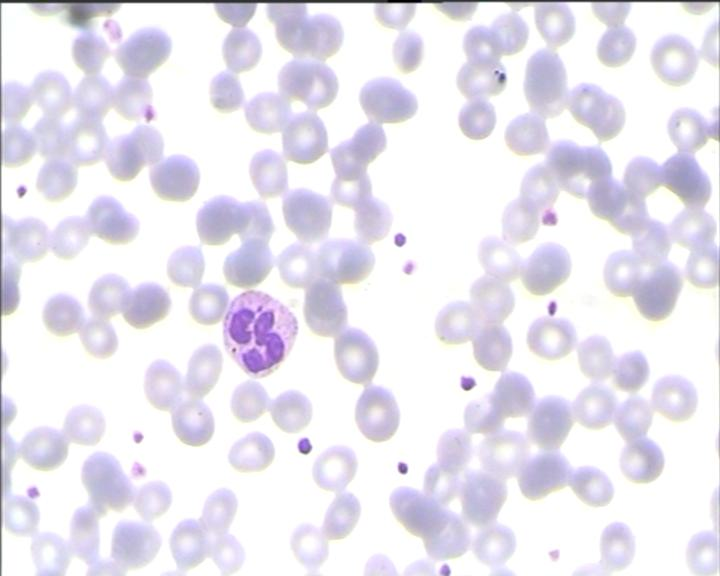neut: (212, 283, 304, 380)
